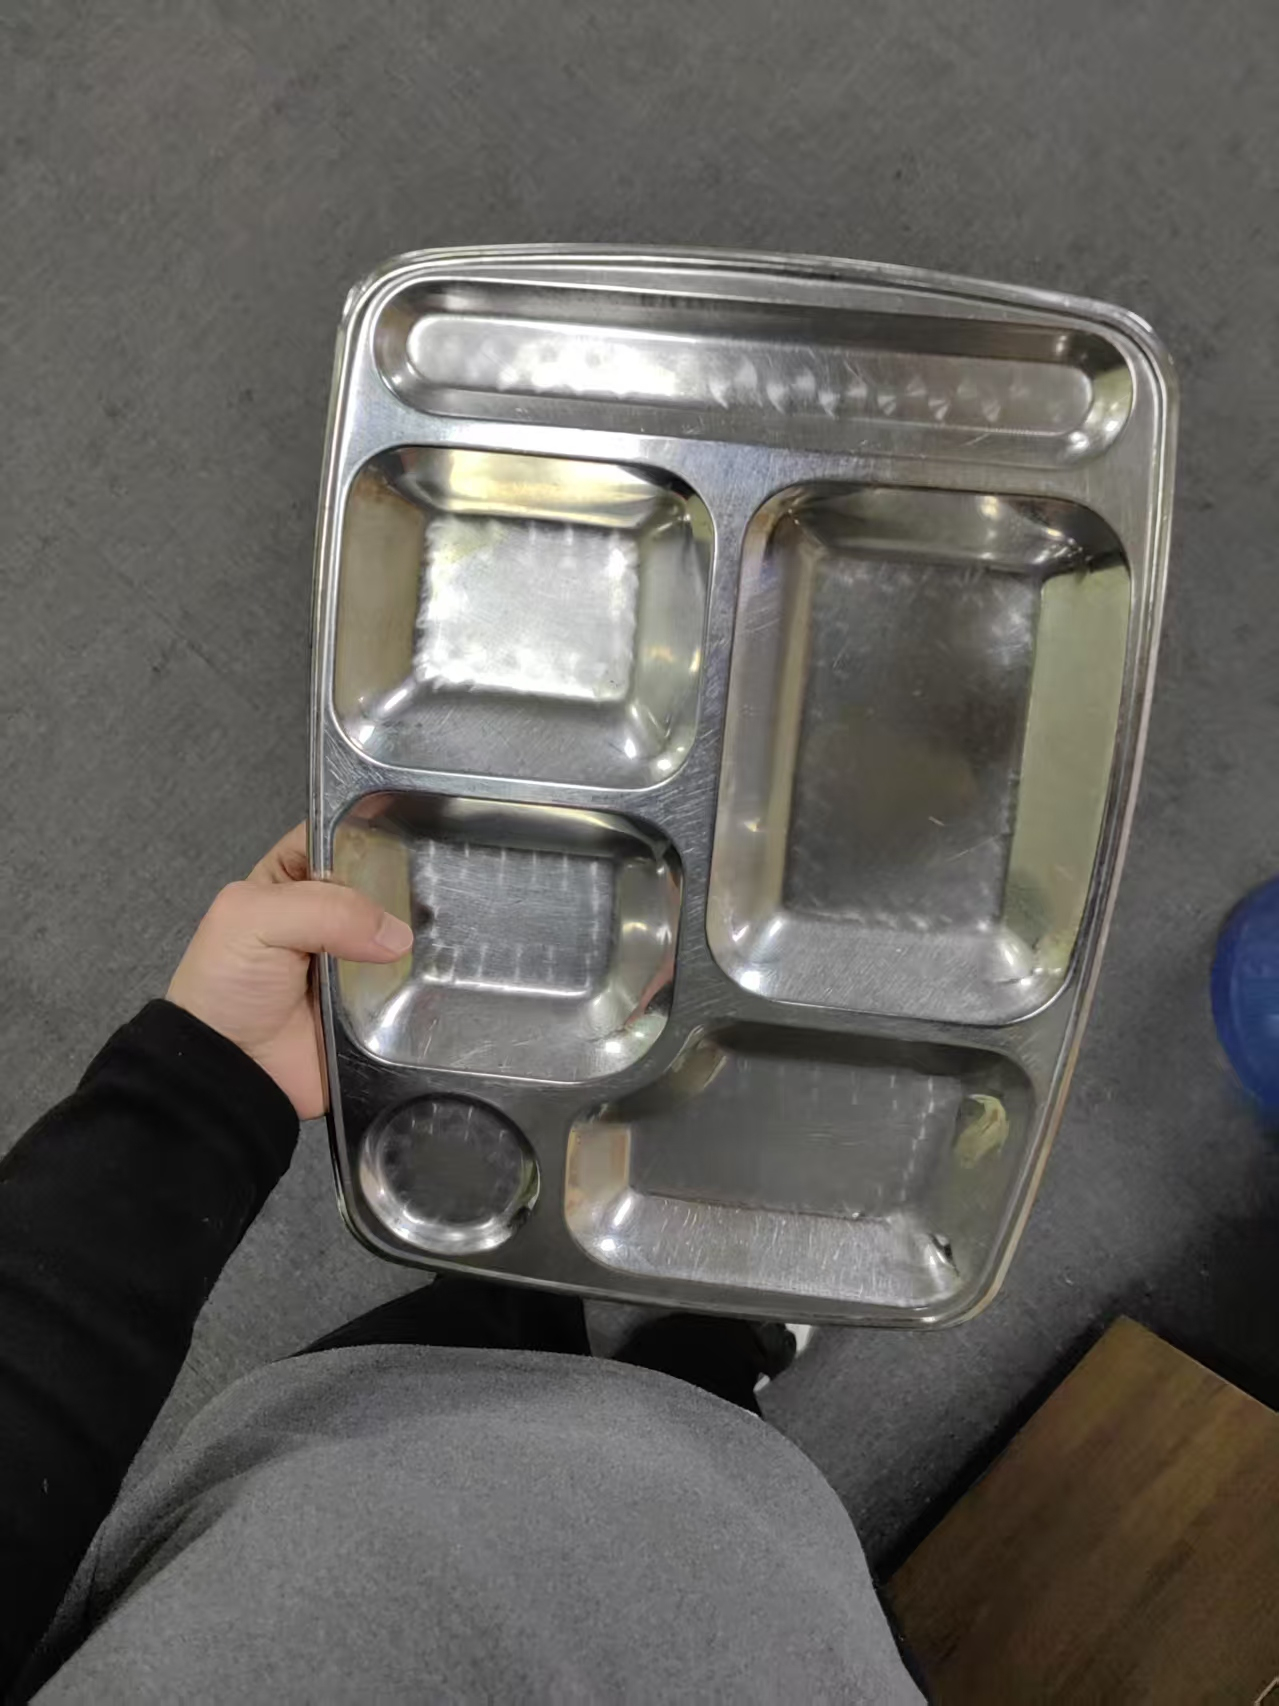plate: (300, 241, 1180, 1336)
